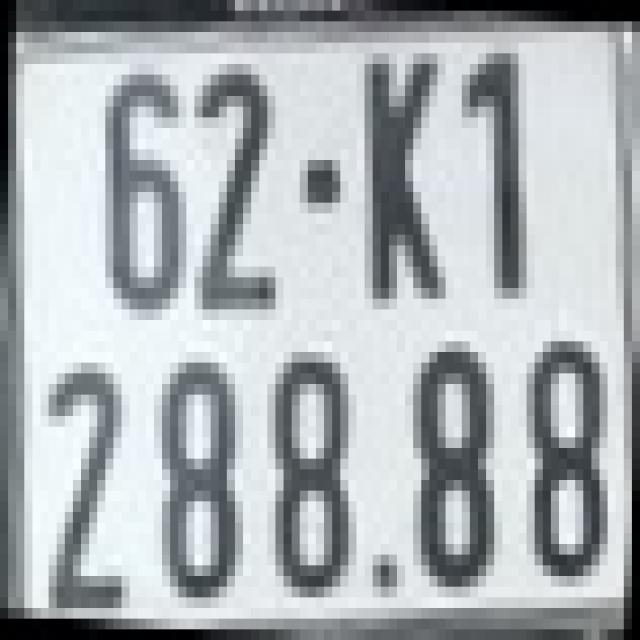1: (462, 53, 534, 299)
2: (194, 64, 284, 309), (40, 363, 130, 608)
6: (106, 75, 186, 309)
8: (413, 341, 494, 587), (268, 352, 348, 597), (526, 341, 608, 576), (162, 363, 235, 597)
K: (356, 43, 446, 309)
